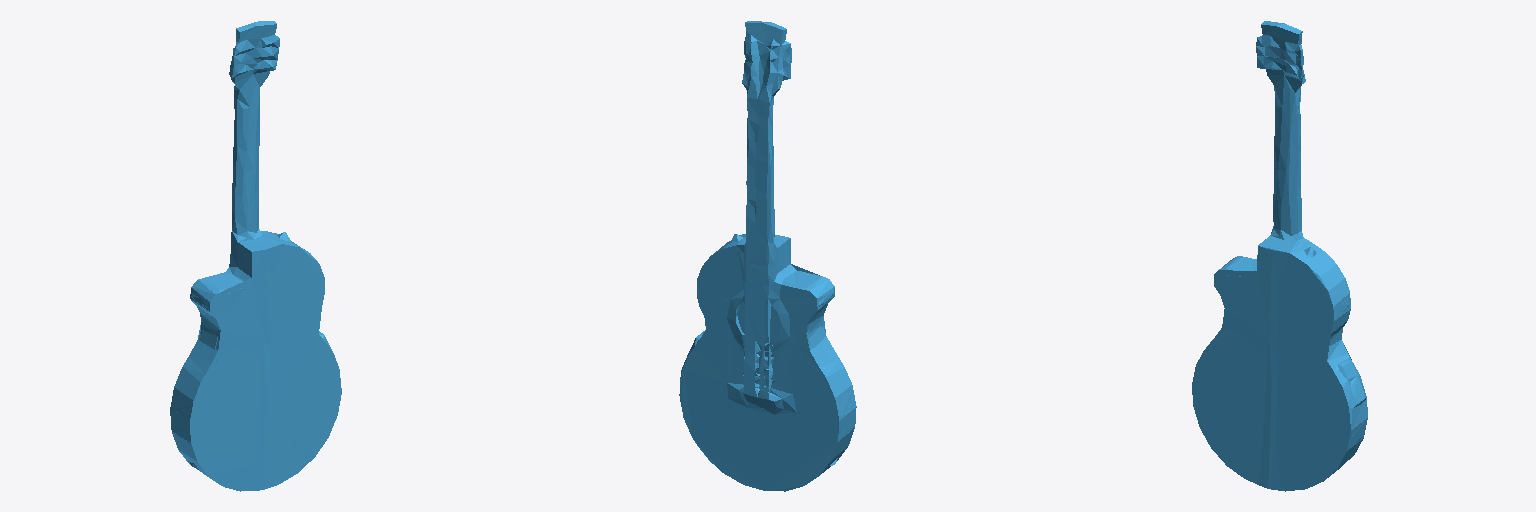
URDF robot description (guitar):
<?xml version="1.0"?>
<robot name="guitar">
    <link name="base_link"></link>

    <link name="guitar_link">
        <visual>
            <origin rpy="0 0.2617 0" xyz="0 0 0" />
            <geometry>
                <mesh filename="./guitar.obj" scale="0.5 0.5 0.5" />
            </geometry>
        </visual>

        <collision>
            <origin rpy="0 0.2617 0" xyz="0 0 0" />
            <geometry>
                <mesh filename="./guitar.obj" scale="0.5 0.5 0.5" />
            </geometry>
        </collision>
    </link>

    <joint name="guitar_base" type="fixed">
        <origin rpy="0 0 1.57" xyz="0 0 0" />
        <parent link="base_link" />
        <child link="guitar_link" />
    </joint>

</robot>

--- Render facts (derived) ---
3 views of the same robot in one strip: view 1: azimuth 30°, elevation 25°; view 2: azimuth 150°, elevation 25°; view 3: azimuth 330°, elevation 25° (orthographic).
Model guitar with 2 links and 1 joints (1 fixed), rooted at base_link, posed all joints at 0.
Links seen in each view (by area): view 1: guitar_link; view 2: guitar_link; view 3: guitar_link.
Link boxes in pixels (x1=…): guitar_link: x1=170, y1=21, x2=341, y2=491; guitar_link: x1=679, y1=21, x2=856, y2=491; guitar_link: x1=1192, y1=21, x2=1367, y2=491.
Size in the robot's own frame: 0.1789 by 0.0473 by 0.5019 metres.
Meshes: 1 distinct files referenced, 1 mesh visuals loaded (1 OBJ).